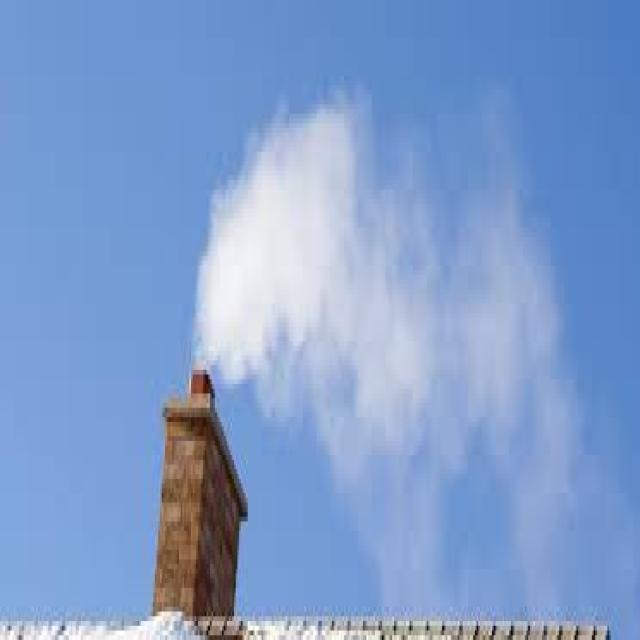Smoke: (192, 72, 602, 620)
